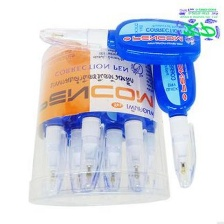correction_fluid: (149, 30, 202, 191), (35, 16, 203, 66), (70, 47, 112, 193), (111, 50, 151, 193), (90, 50, 129, 196), (38, 48, 73, 199)
plastic_box: (22, 34, 173, 208)
